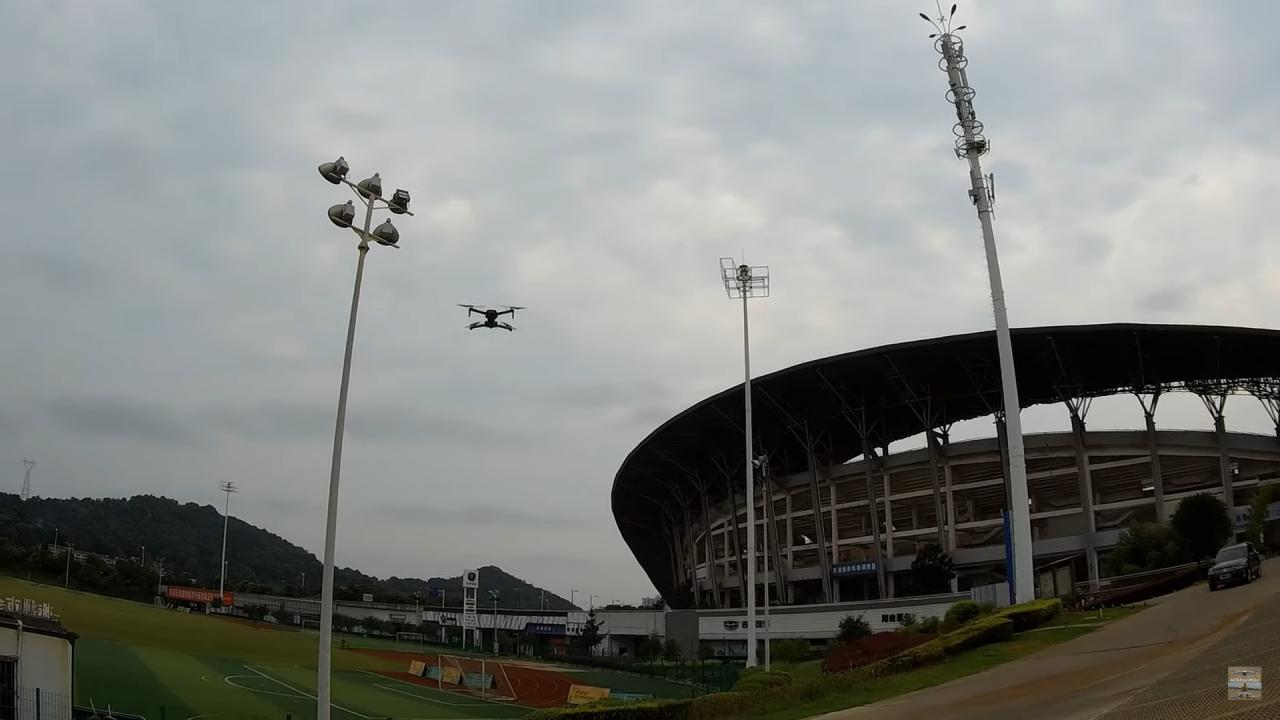Drone: (449, 294, 534, 342)
